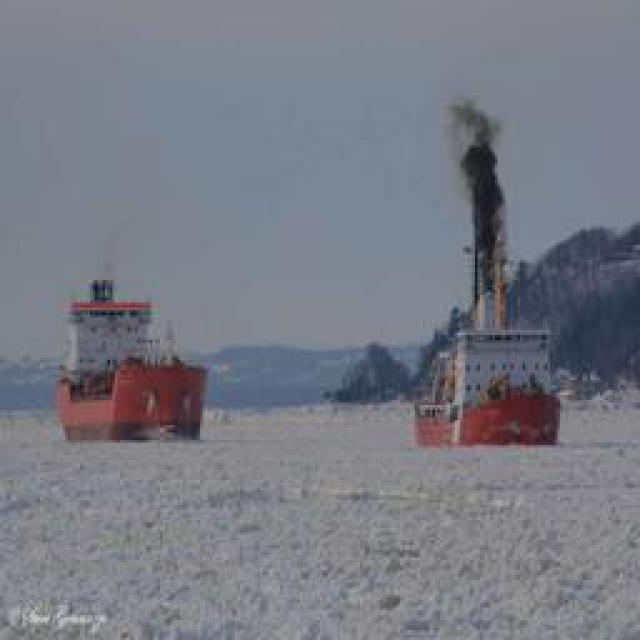Ship: (400, 257, 568, 451), (60, 268, 210, 446)
